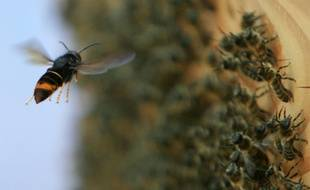bee: (233, 86, 270, 126), (229, 135, 271, 169), (242, 31, 282, 63), (276, 115, 301, 159), (266, 73, 295, 103)
hornet: (26, 42, 97, 105)
